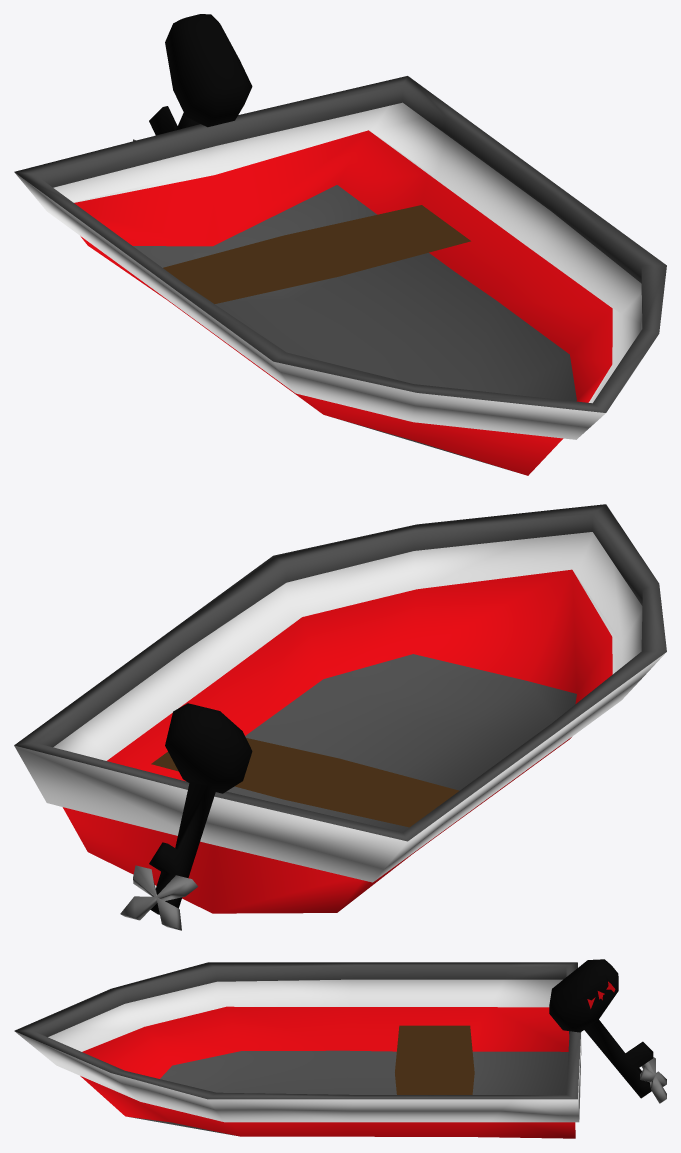
Rendered from Dingy.glb.
3 renders of one model, top to bottom at view 1: azimuth 30°, elevation 25°; view 2: azimuth 150°, elevation 25°; view 3: azimuth 270°, elevation 25°, orthographic. The views are drawn at different scales.
Visible parts, largest first — view 1: Boat -col, Motor -col; view 2: Boat -col, Motor -col; view 3: Boat -col, Motor -col.
Part boxes in pixels (x1=…): Boat -col: x1=14, y1=76, x2=666, y2=475; Motor -col: x1=133, y1=14, x2=252, y2=141; Boat -col: x1=14, y1=504, x2=666, y2=913; Motor -col: x1=120, y1=703, x2=252, y2=930; Boat -col: x1=14, y1=962, x2=581, y2=1138; Motor -col: x1=549, y1=959, x2=666, y2=1103.
Size of the model in its own units: 3.05 by 1.61 by 6.14.
